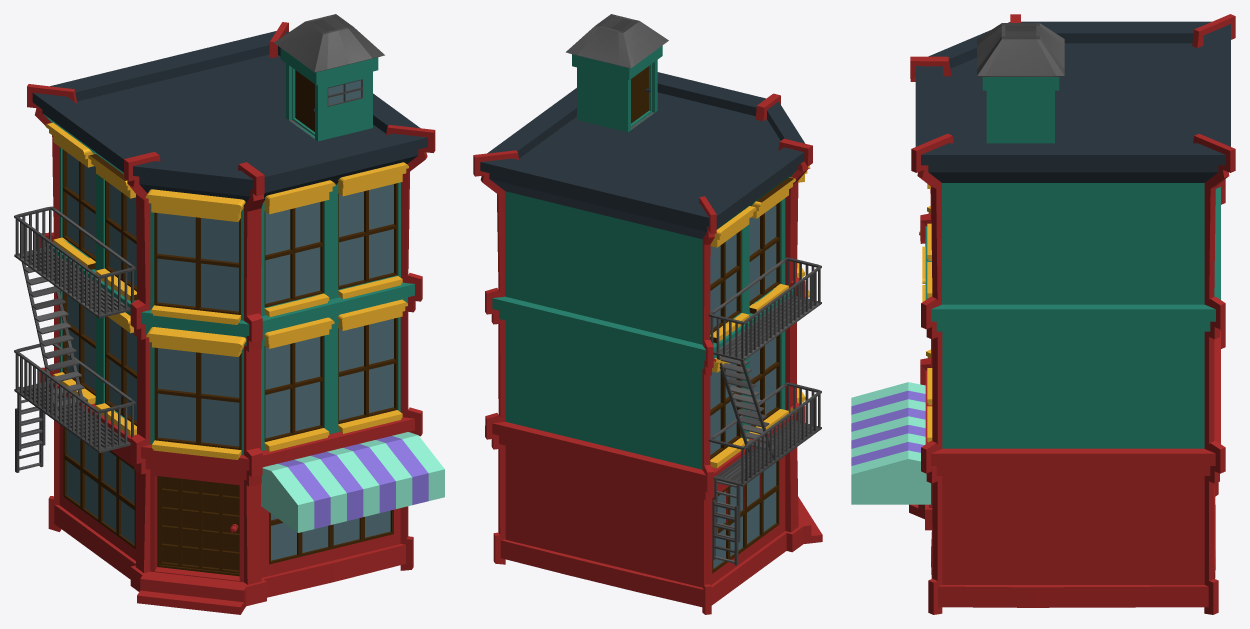
File: CornerBuildings.fbx_Corner_Building_-_Green.fbx
3 views of the same model, side by side, from view 1: azimuth 30°, elevation 25°; view 2: azimuth 150°, elevation 25°; view 3: azimuth 270°, elevation 25° (orthographic). The views are drawn at different scales.
Visible parts, largest first — view 1: Cube.002; view 2: Cube.002; view 3: Cube.002.
Part boxes in pixels (box(x1,y1,x2,y2)): Cube.002: box(14, 14, 444, 614); Cube.002: box(473, 14, 822, 614); Cube.002: box(851, 14, 1235, 614).
Bounding box in the file's own units: 1689 × 1542 × 2734.
